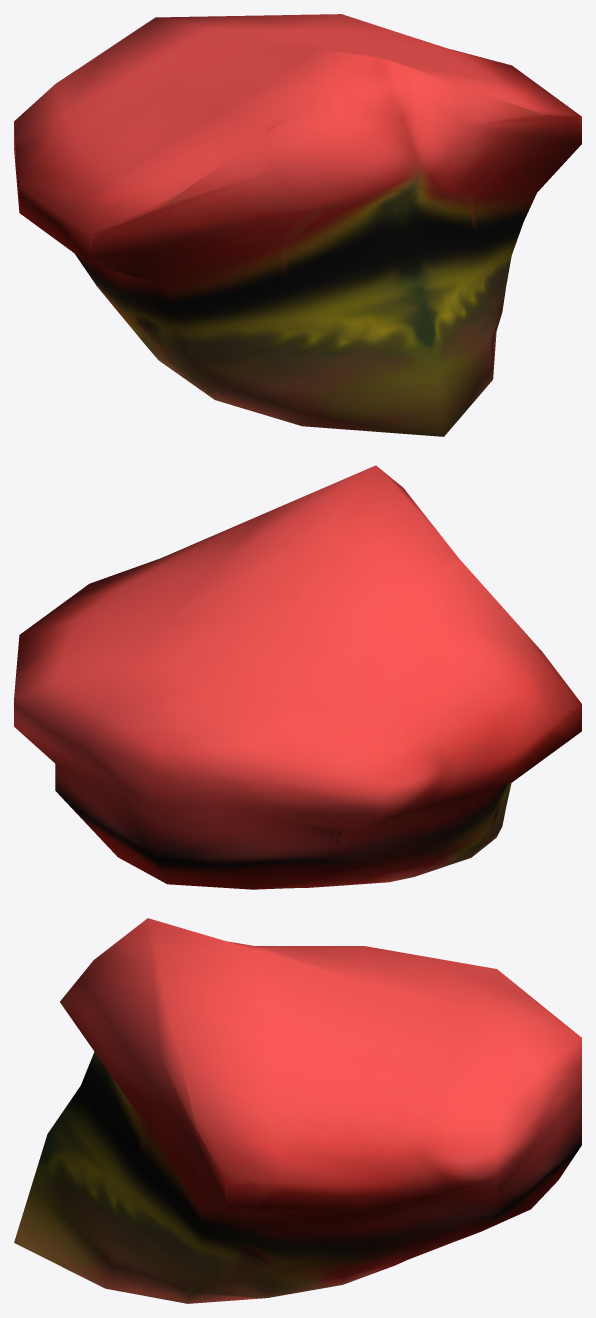
Rendered from nooooo.glb.
3 renders of one model, top to bottom at view 1: azimuth 30°, elevation 25°; view 2: azimuth 150°, elevation 25°; view 3: azimuth 270°, elevation 25°, orthographic.
Visible parts, largest first — view 1: Cube; view 2: Cube; view 3: Cube.
Part boxes in pixels (bbox=[...]): Cube: bbox=[14, 14, 581, 436]; Cube: bbox=[14, 465, 581, 889]; Cube: bbox=[14, 918, 581, 1303].
Size of the model in its own units: 2.58 by 1.65 by 2.62.
Materials: 1 (1 with a texture image).
